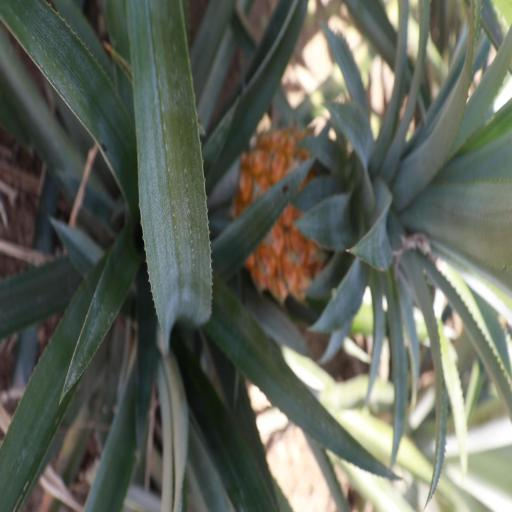Pineapple - v8 v1: (237, 118, 512, 300)
